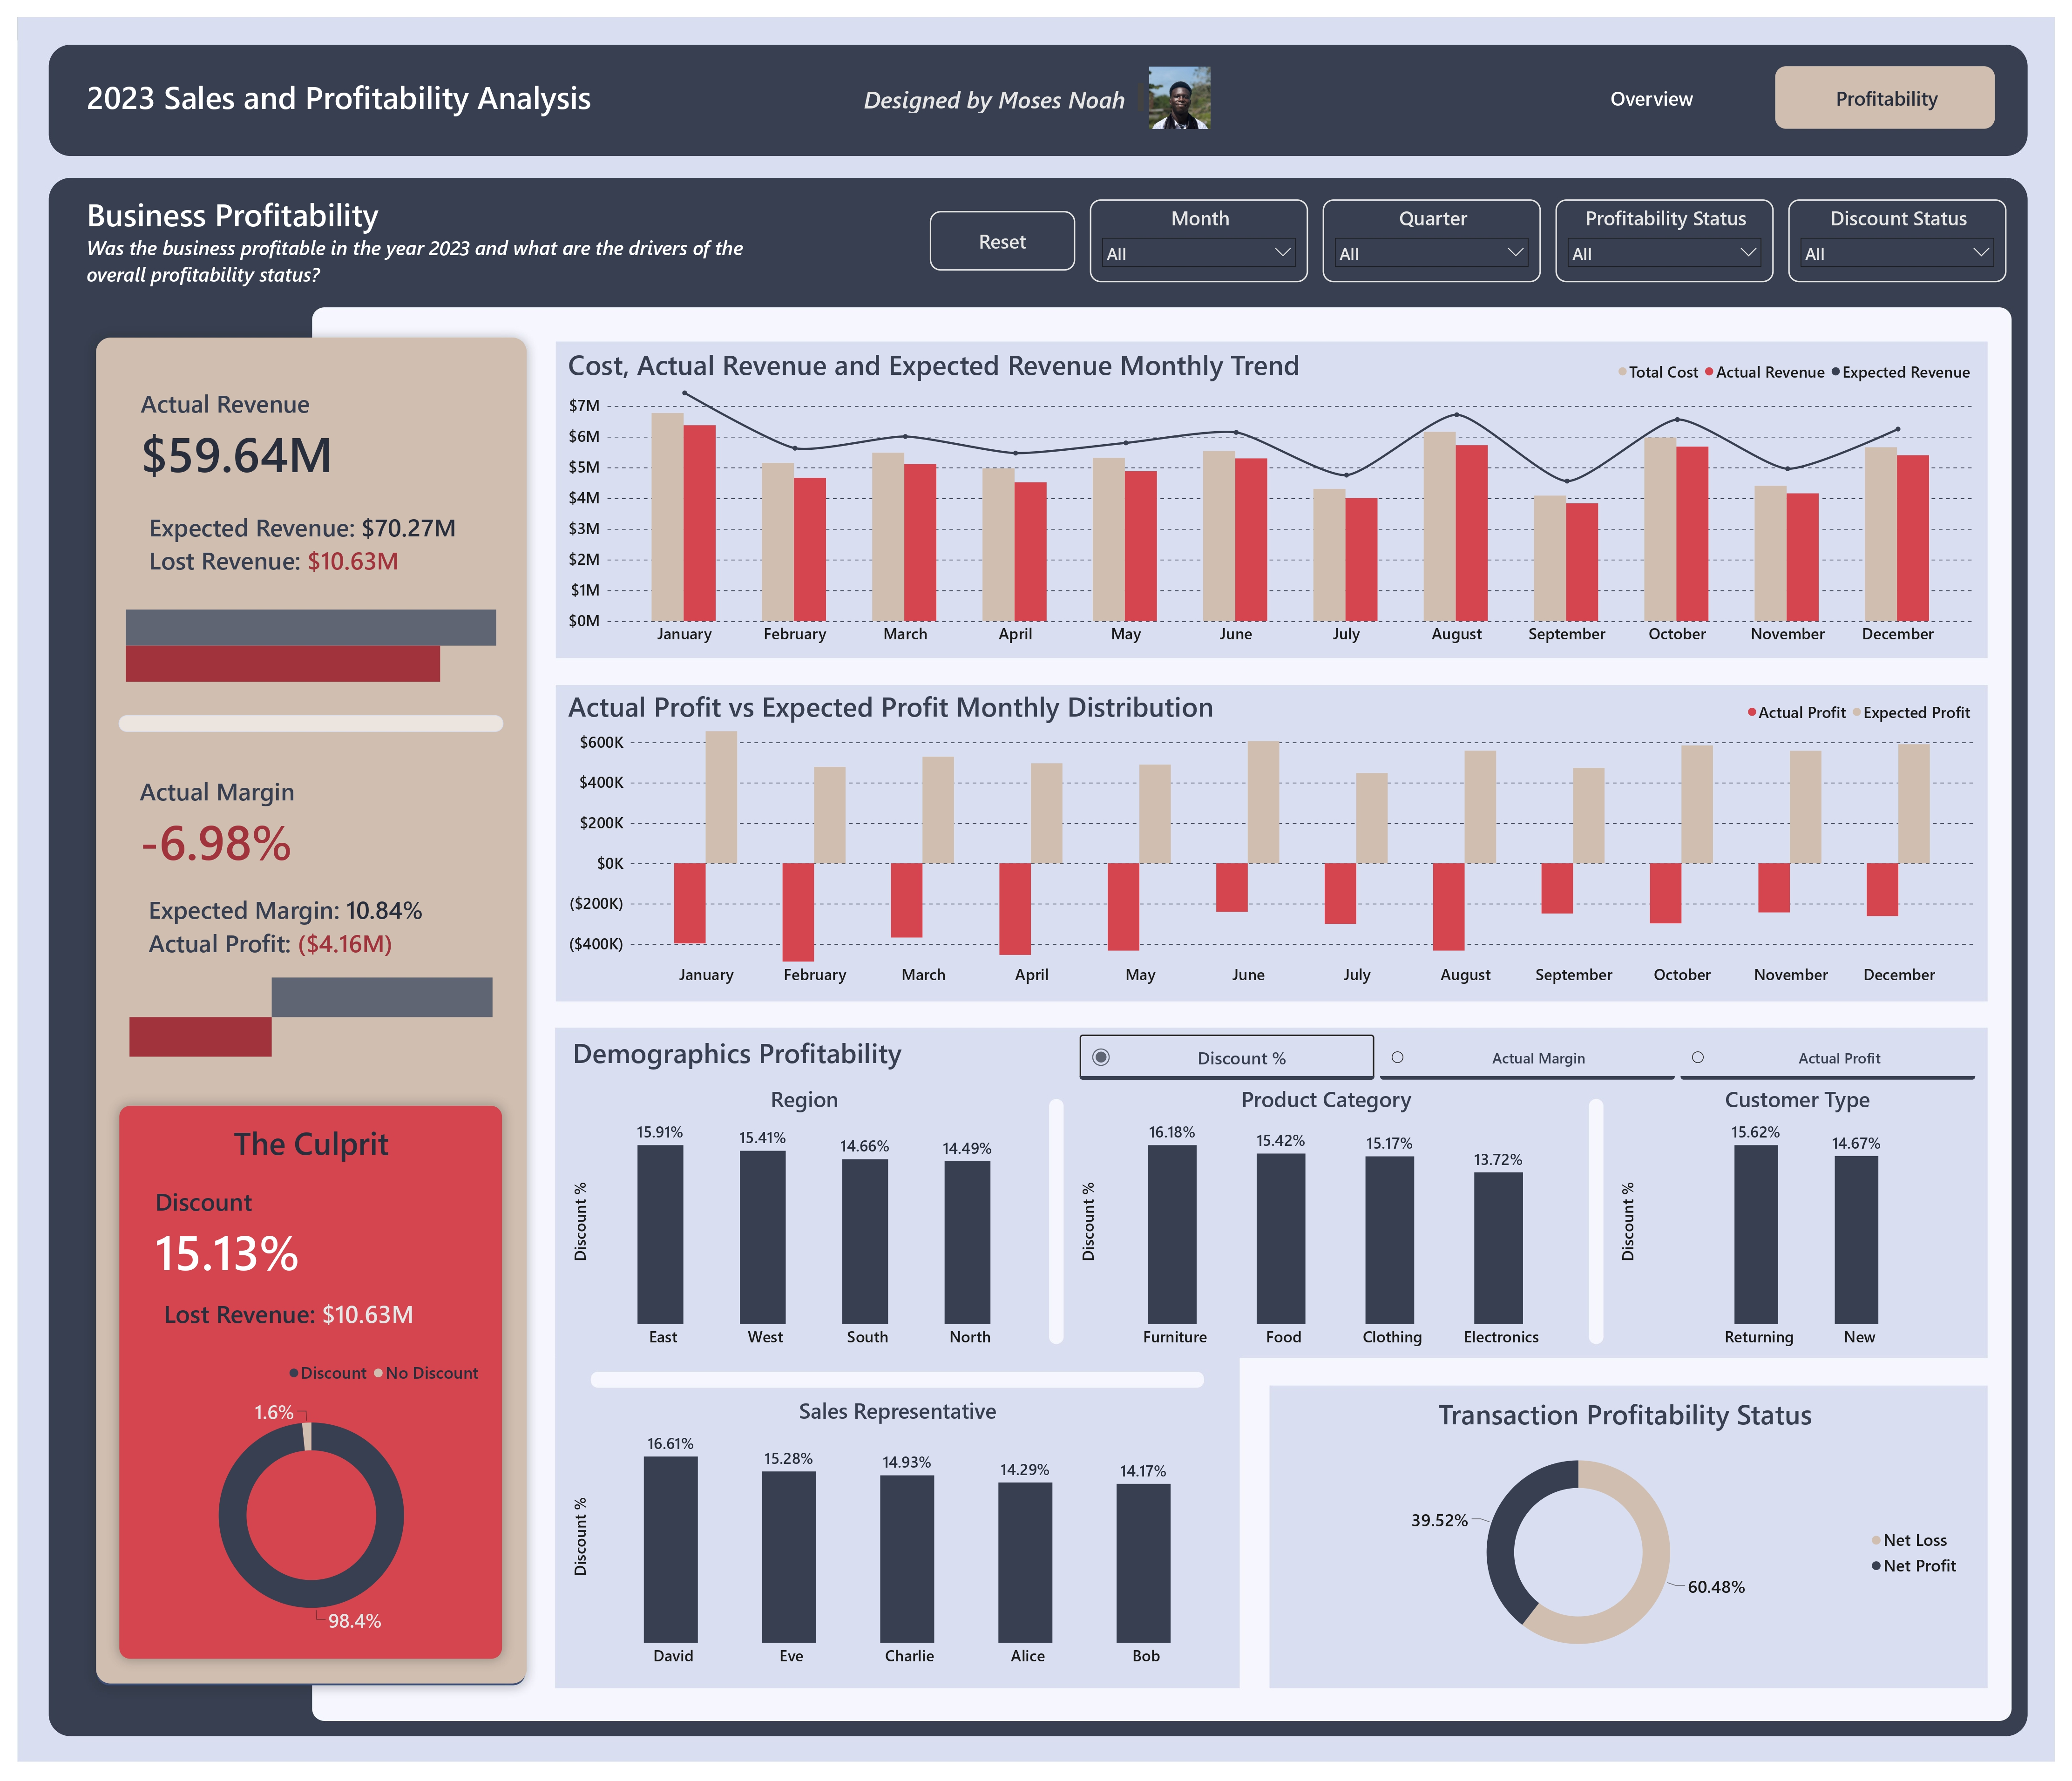

This screenshot's page, from the dashboard's own definition file:
{"tool":"powerbi","page":{"name":"Profitability","canvas":[2800,2400],"ordinal":1},"visuals":[{"type":"shape","box":[2416,67,302,86],"z":0,"group":"g3"},{"type":"textbox","box":[1157.5,84.5,395,51],"z":0,"group":"g4"},{"type":"shape","box":[108,440,592,1850],"z":0,"group":"g7"},{"type":"pageNavigator","box":[2090,67,636,86],"z":1000,"group":"g3"},{"type":"image","box":[1552.5,67.5,90,85],"z":1000,"group":"g4"},{"type":"shape","title":"The Culprit","box":[140,1496,526,760],"z":1000,"group":"g7"},{"type":"shape","box":[138.8,959.3,528.8,22.5],"z":2000,"group":"g5"},{"type":"clusteredBarChart","fields":{"Y":["_Measures.Expected Revenue","_Measures.Total Revenue"]},"box":[138.8,667.5,528.8,390],"z":2500,"group":"g6"},{"type":"lineClusteredColumnComboChart","title":"Cost, Effective Revenue and Standard Revenue Monthly Trend","fields":{"Category":["Calendar.Month Name"],"Y2":["_Measures.Standard Revenue"],"Y":["_Measures.Total Cost","_Measures.Total Revenue"]},"box":[752,462,1944,410],"z":3000,"group":"g1"},{"type":"cardVisual","fields":{"Data":["_Measures.Total Revenue"]},"box":[140,477.5,525,350],"z":3000,"group":"g6"},{"type":"clusteredColumnChart","title":"Effective Profit vs Standard Profit Monthly Performance","fields":{"Category":["Calendar.Month Name"],"Y":["_Measures.Actual Profit","_Measures.Expected Profit"]},"box":[752,930,1944,410],"z":4000,"group":"g2"},{"type":"clusteredColumnChart","title":"Region","fields":{"Y":["_Measures.Discount %"],"Category":["Region_Dim.Region"]},"box":[758,1466,648,372],"z":4000},{"type":"cardVisual","fields":{"Data":["_Measures.Effective Margin %"]},"box":[138.8,1019.3,528.8,318.8],"z":5000,"group":"g5"},{"type":"donutChart","title":"Transaction Profitability Status","fields":{"Y":["CountNonNull(Fact_Table.Profitability Status)"],"Category":["Fact_Table.Profitability Status"]},"box":[1740,1894,940,382],"z":6000},{"type":"advancedSlicerVisual","fields":{"Values":["Demographics Parameter 3.Demographics Parameter 3"]},"box":[1455,1392.5,1242.5,72.5],"z":8000},{"type":"clusteredBarChart","fields":{"Y":["_Measures.Standard Margin %","_Measures.Effective Margin %"]},"box":[138.8,1293.1,528.8,153.8],"z":9000,"group":"g5"},{"type":"clusteredColumnChart","title":"Product Category","fields":{"Y":["_Measures.Discount %"],"Category":["Product_Dim.Product_Category"]},"box":[1456,1466,686,372],"z":10000},{"type":"textbox","box":[162,1512,484,80],"z":11000,"group":"g7"},{"type":"clusteredColumnChart","title":"Customer Type","fields":{"Y":["_Measures.Discount %"],"Category":["Fact_Table.Customer_Type"]},"box":[2198,1466,498,372],"z":12000},{"type":"textbox","box":[752,446,1084,78],"z":13000,"group":"g1"},{"type":"cardVisual","fields":{"Data":["_Measures.Discount %"]},"box":[160,1592,486,284],"z":13000,"group":"g7"},{"type":"textbox","box":[752,916,1084,78],"z":14000,"group":"g2"},{"type":"clusteredColumnChart","title":"Sales Representative","fields":{"Y":["_Measures.Discount %"],"Category":["Region_Dim.Sales_Rep"]},"box":[758,1894,904,382],"z":14000},{"type":"donutChart","title":"Transaction Discount Status","fields":{"Category":["Fact_Table.Discount Status"],"Y":["CountNonNull(Fact_Table.Discount Status)"]},"box":[162,1838,484,402],"z":15000,"group":"g7"},{"type":"textbox","box":[758,1392,536,78],"z":16000},{"type":"group","id":"g1","title":"Group 5","box":[752,446,1944,426],"z":17000},{"type":"group","id":"g2","title":"Group 6","box":[752,916,1944,424],"z":18000},{"type":"slicer","title":"Month","fields":{"Values":["Calendar.Month Name"]},"box":[1474,250,300,114],"z":19000},{"type":"slicer","title":"Quarter","fields":{"Values":["Calendar.Quarter"]},"box":[1794,250,300,114],"z":20000},{"type":"slicer","title":"Profitability Status","fields":{"Values":["Fact_Table.Profitability Status"]},"box":[2114,250,300,114],"z":21000},{"type":"slicer","title":"Discount Status","fields":{"Values":["Fact_Table.Discount Status"]},"box":[2434,250,300,114],"z":22000},{"type":"actionButton","box":[1254,266,200,82],"z":23000},{"type":"group","id":"g3","title":"Group 7","box":[2090,67,636,86],"z":24000},{"type":"actionButton","box":[1157.5,67.5,485,85],"z":25000,"group":"g4"},{"type":"textbox","box":[90,75,847.5,67.5],"z":25000},{"type":"group","id":"g4","title":"Group 8","box":[1157.5,67.5,485,85],"z":26000},{"type":"textbox","box":[90,236.2,1000,153.8],"z":27000},{"type":"group","id":"g5","title":"Group 1","box":[138.8,959.3,528.8,487.5],"z":27001,"group":"g7"},{"type":"group","id":"g6","title":"Group 2","box":[138.8,477.5,528.8,580],"z":27002,"group":"g7"},{"type":"group","id":"g7","title":"Group 3","box":[108,440,592,1850],"z":27003}]}

Visuals, with their boxes in screenshot pixels (x1, y1, x2, y2), scaled from the page's 2800x2400 canvas onto the 2072x1781 screenshot:
shape: rect(1788, 50, 2011, 114)
textbox: rect(857, 63, 1149, 101)
shape: rect(80, 326, 518, 1700)
pageNavigator: rect(1547, 50, 2017, 114)
image: rect(1149, 50, 1215, 113)
"The Culprit" shape: rect(103, 1110, 493, 1674)
shape: rect(103, 712, 494, 729)
clusteredBarChart - _Measures.Expected Revenue x _Measures.Total Revenue: rect(103, 495, 494, 785)
"Cost, Effective Revenue and Standard Revenue Monthly Trend" lineClusteredColumnComboChart: rect(556, 343, 1995, 647)
cardVisual - _Measures.Total Revenue: rect(103, 354, 492, 614)
"Effective Profit vs Standard Profit Monthly Performance" clusteredColumnChart: rect(556, 690, 1995, 995)
"Region" clusteredColumnChart: rect(561, 1088, 1041, 1364)
cardVisual - _Measures.Effective Margin %: rect(103, 757, 494, 993)
"Transaction Profitability Status" donutChart: rect(1287, 1406, 1983, 1689)
advancedSlicerVisual - Demographics Parameter 3.Demographics Parameter 3: rect(1077, 1033, 1996, 1087)
clusteredBarChart - _Measures.Standard Margin % x _Measures.Effective Margin %: rect(103, 960, 494, 1074)
"Product Category" clusteredColumnChart: rect(1077, 1088, 1585, 1364)
textbox: rect(120, 1122, 478, 1181)
"Customer Type" clusteredColumnChart: rect(1626, 1088, 1995, 1364)
textbox: rect(556, 331, 1359, 389)
cardVisual - _Measures.Discount %: rect(118, 1181, 478, 1392)
textbox: rect(556, 680, 1359, 738)
"Sales Representative" clusteredColumnChart: rect(561, 1406, 1230, 1689)
"Transaction Discount Status" donutChart: rect(120, 1364, 478, 1662)
textbox: rect(561, 1033, 958, 1091)
"Group 5" group: rect(556, 331, 1995, 647)
"Group 6" group: rect(556, 680, 1995, 995)
"Month" slicer: rect(1091, 185, 1313, 270)
"Quarter" slicer: rect(1327, 185, 1550, 270)
"Profitability Status" slicer: rect(1564, 185, 1787, 270)
"Discount Status" slicer: rect(1801, 185, 2023, 270)
actionButton: rect(928, 197, 1076, 258)
"Group 7" group: rect(1547, 50, 2017, 114)
actionButton: rect(857, 50, 1215, 113)
textbox: rect(67, 56, 694, 106)
"Group 8" group: rect(857, 50, 1215, 113)
textbox: rect(67, 175, 806, 290)
"Group 1" group: rect(103, 712, 494, 1074)
"Group 2" group: rect(103, 354, 494, 785)
"Group 3" group: rect(80, 326, 518, 1700)
